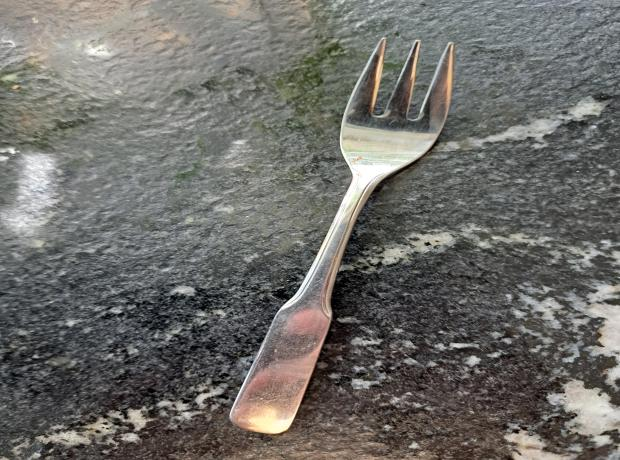metal: (228, 36, 462, 434)
